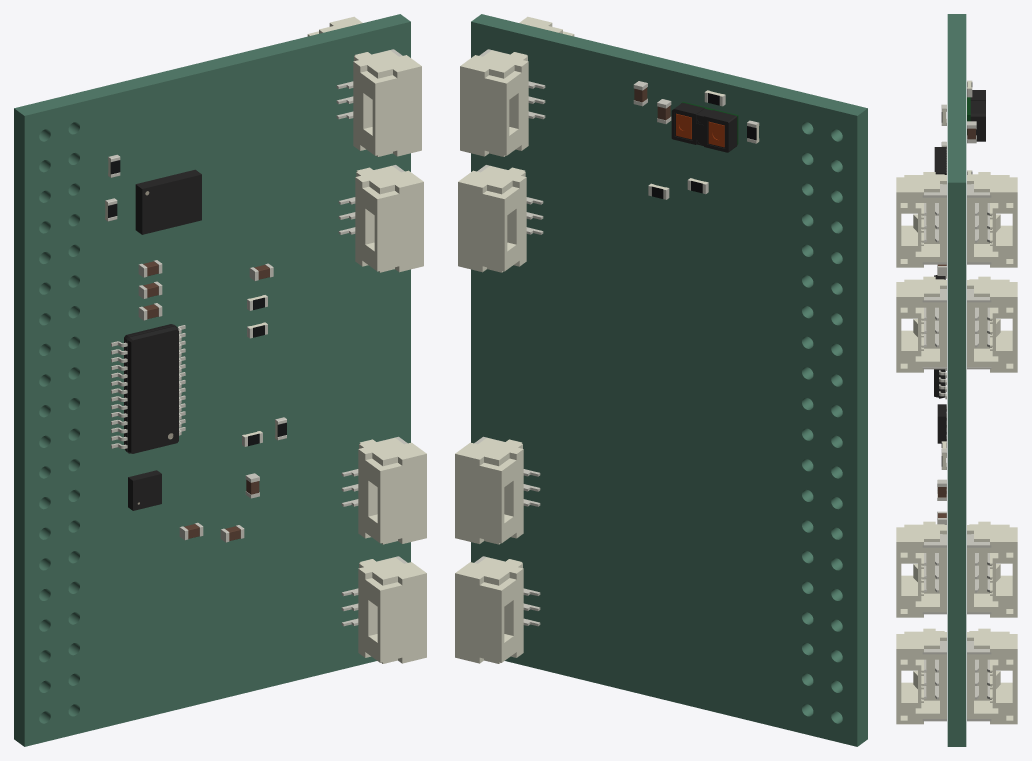
Rendered from SanoBlimp v1.obj.
3 renders of one model, left to right at view 1: azimuth 30°, elevation 25°; view 2: azimuth 150°, elevation 25°; view 3: azimuth 270°, elevation 25°, orthographic. The views are drawn at different scales.
Parts seen in each view (by area): view 1: Body1:31, Body1:4, Body1:14, Body1:2, Body1:9, Body1:15, Body1:7, Body1:19; view 2: Body1:31, Body1:25, Body1:28, Body1:24, Body1:29, Body1:30; view 3: Body1:31, Body1:9, Body1:14, Body1:15, Body1:24, Body1:25, Body1:29, Body1:2, Body1:28, Body1:30, Body1:4, Body1:19 (+1 smaller).
Part boxes in pixels (<box>): Body1:31: <box>14,14,410,746</box>; Body1:4: <box>111,324,185,453</box>; Body1:14: <box>338,165,423,272</box>; Body1:2: <box>336,49,421,156</box>; Body1:9: <box>341,436,426,544</box>; Body1:15: <box>341,556,426,663</box>; Body1:7: <box>135,169,201,234</box>; Body1:19: <box>128,470,161,510</box>; Body1:31: <box>471,14,867,746</box>; Body1:25: <box>458,165,543,272</box>; Body1:28: <box>460,49,545,156</box>; Body1:24: <box>455,436,540,544</box>; Body1:29: <box>455,556,540,663</box>; Body1:30: <box>671,101,738,152</box>; Body1:31: <box>947,14,966,746</box>; Body1:9: <box>896,521,946,617</box>; Body1:14: <box>896,276,946,372</box>; Body1:15: <box>896,628,946,724</box>; Body1:24: <box>967,521,1017,617</box>; Body1:25: <box>967,276,1017,372</box>; Body1:29: <box>967,628,1017,724</box>; Body1:2: <box>896,172,946,267</box>; Body1:28: <box>967,172,1017,267</box>; Body1:30: <box>967,90,985,141</box>; Body1:4: <box>934,275,946,399</box>; Body1:19: <box>937,404,946,443</box>.
Size of the model in its own units: 3.35 by 5.23 by 1.02.
